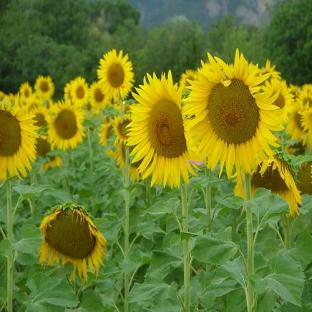sunflower: (181, 49, 282, 312)
